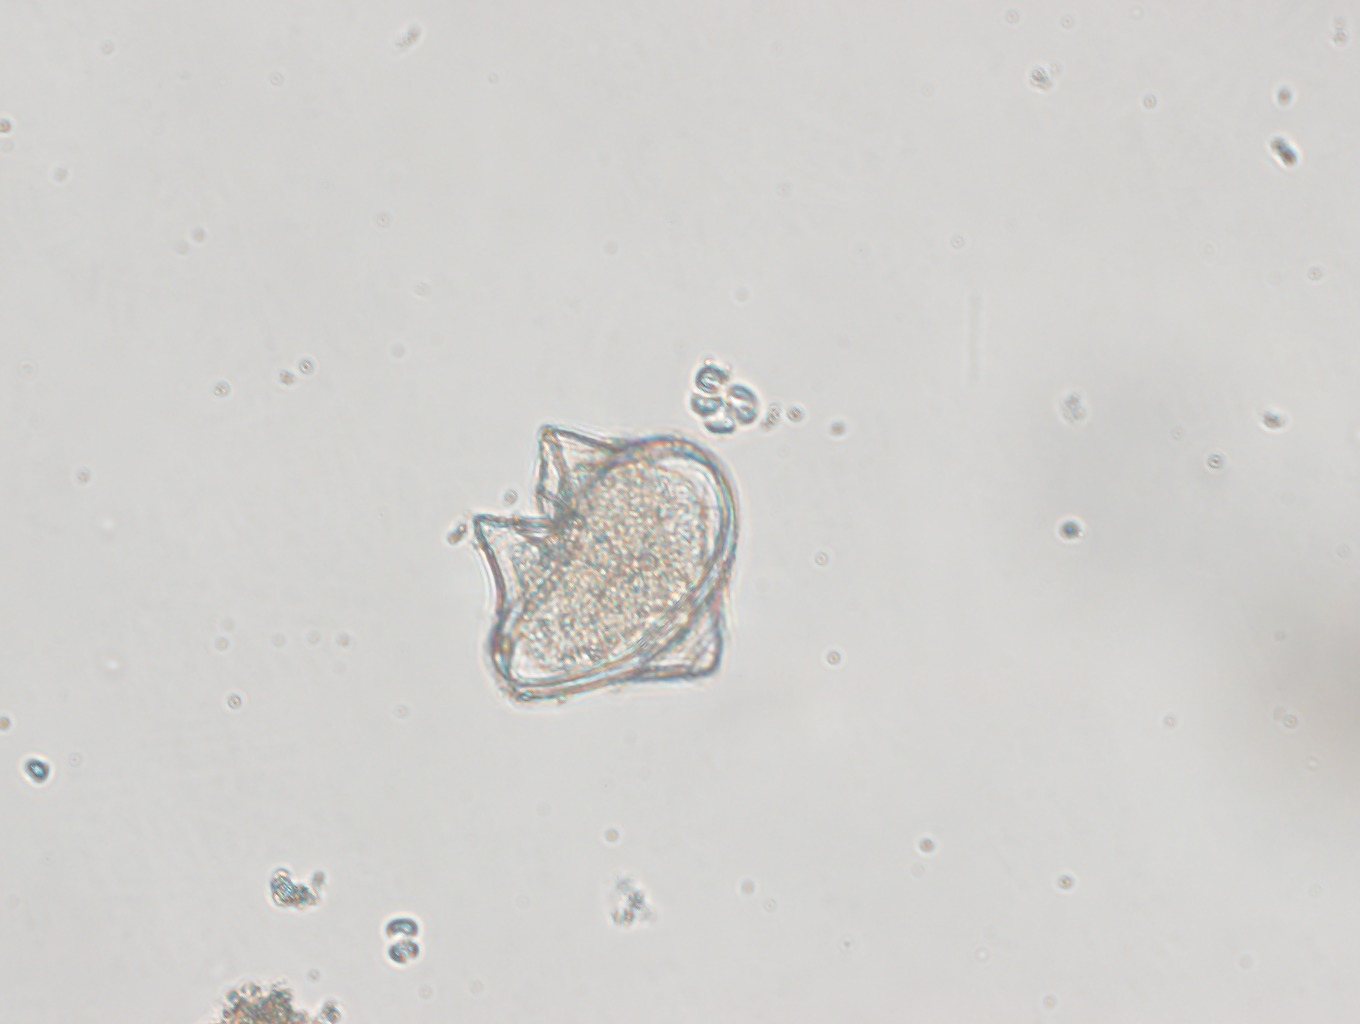protoperidinium: (472, 419, 741, 703)
